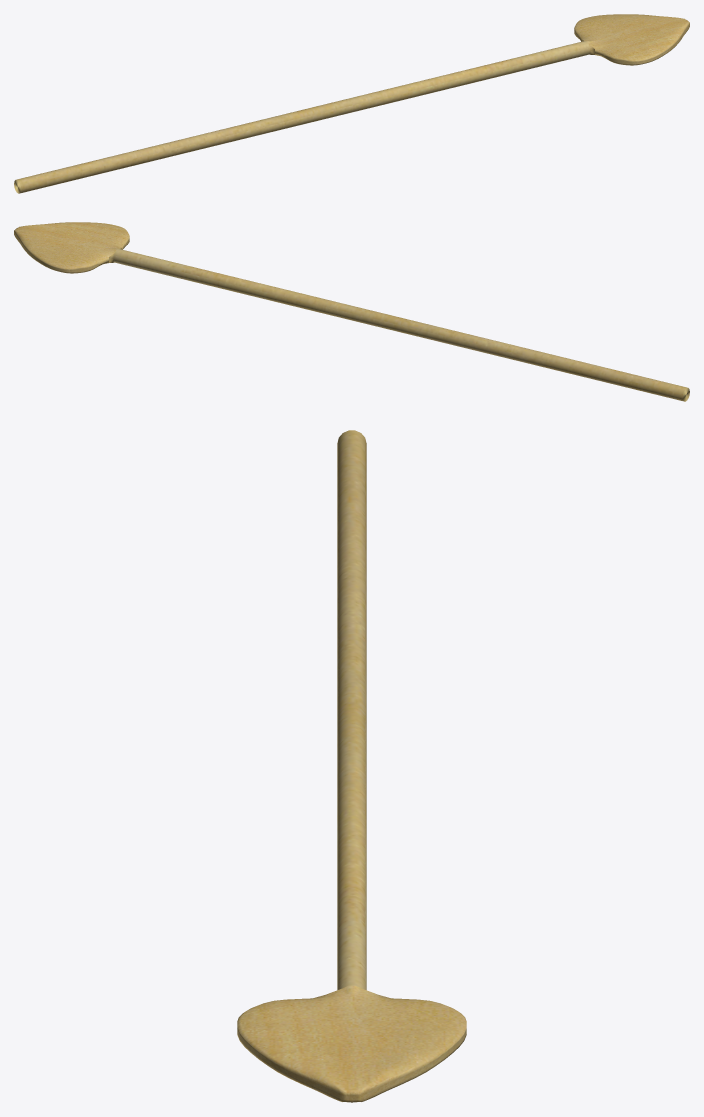
The model's file is paddle.fbx.
3 renders of one model, top to bottom at view 1: azimuth 30°, elevation 25°; view 2: azimuth 150°, elevation 25°; view 3: azimuth 270°, elevation 25°, orthographic. The views are drawn at different scales.
Visible parts, largest first — view 1: paddle1; view 2: paddle1; view 3: paddle1.
Boxes of the visible parts, x1=… form: paddle1: x1=14, y1=14, x2=689, y2=193; paddle1: x1=14, y1=222, x2=689, y2=401; paddle1: x1=237, y1=430, x2=466, y2=1102.
Bounding box in the file's own units: 9.98 × 0.1835 × 1.48.
1 material, 1 textured.
